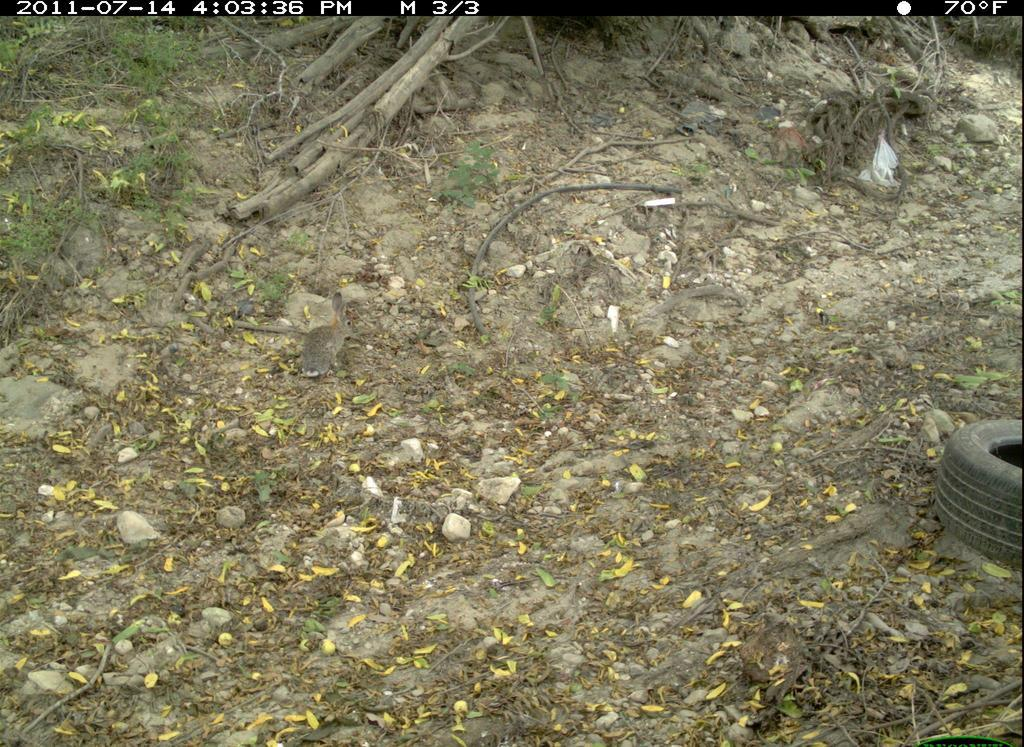rabbit: (281, 291, 392, 387)
